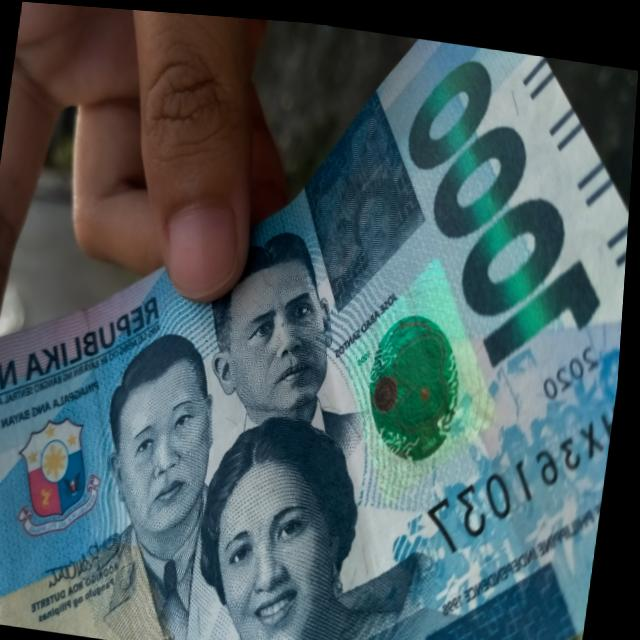concealed_value: (304, 81, 427, 306)
optically_variable_device: (330, 238, 524, 512)
serial_number: (413, 367, 621, 564)
